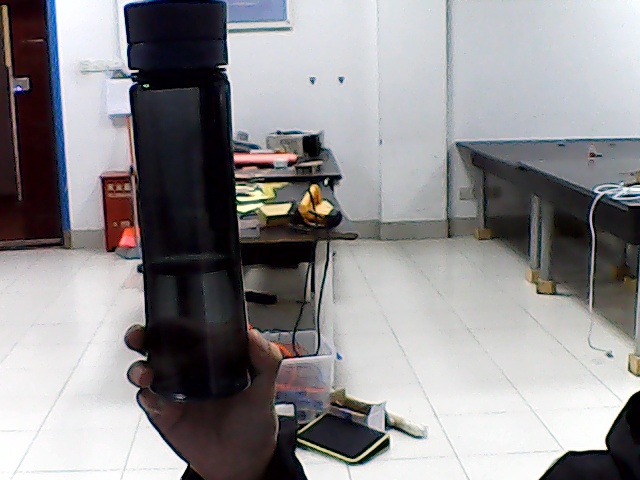cup: (134, 15, 236, 390)
